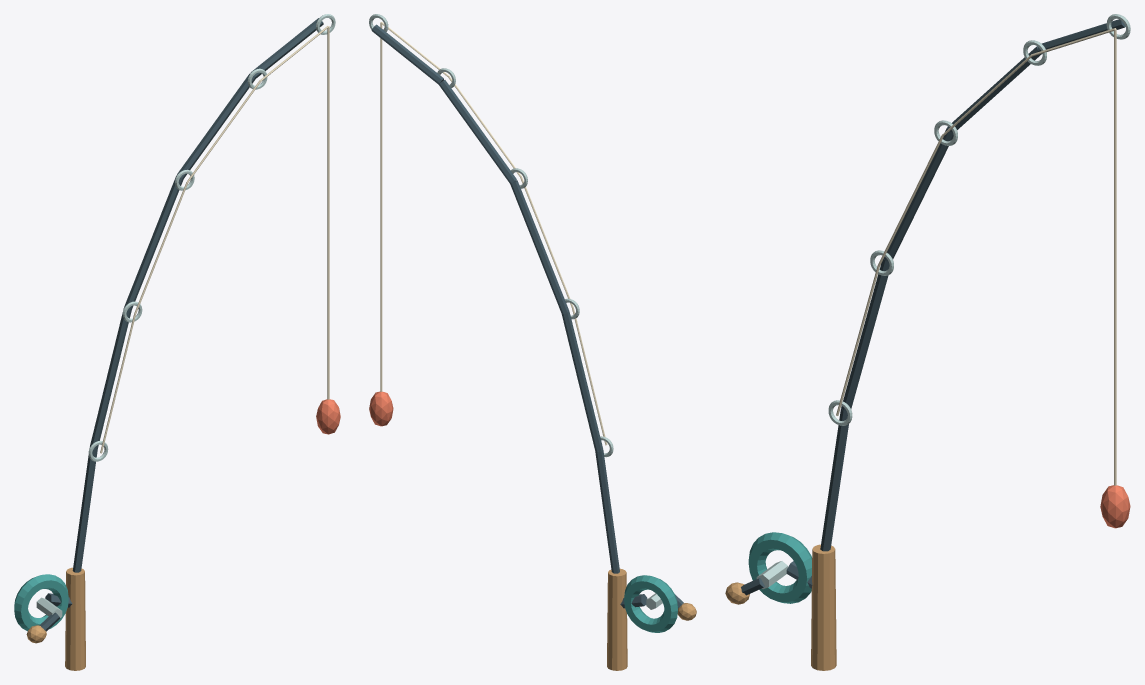
The model's file is fishing_rod_and_reel_quiet_lake_fishing_22406.glb.
3 renders of one model, left to right at view 1: azimuth 30°, elevation 25°; view 2: azimuth 150°, elevation 25°; view 3: azimuth 330°, elevation 25°, orthographic. The views are drawn at different scales.
Parts seen in each view (by area): view 1: iron, cream, wood, teal, silver, coral; view 2: iron, cream, wood, teal, silver, coral; view 3: iron, wood, cream, teal, silver, coral.
Part boxes in pixels (x1,y1,x2,y2): iron: [39, 18, 323, 631]; cream: [100, 26, 329, 453]; wood: [26, 567, 85, 670]; teal: [14, 574, 68, 631]; silver: [36, 14, 335, 617]; coral: [316, 399, 340, 434]; iron: [371, 24, 683, 608]; cream: [380, 22, 607, 445]; wood: [607, 568, 696, 670]; teal: [624, 575, 677, 632]; silver: [369, 14, 662, 609]; coral: [369, 391, 393, 426]; iron: [741, 19, 1125, 595]; wood: [725, 544, 836, 670]; cream: [836, 28, 1116, 485]; teal: [748, 532, 811, 603]; silver: [756, 14, 1130, 589]; coral: [1100, 485, 1130, 528].
Size of the model in its own units: 1.41 by 2.5 by 0.195.
